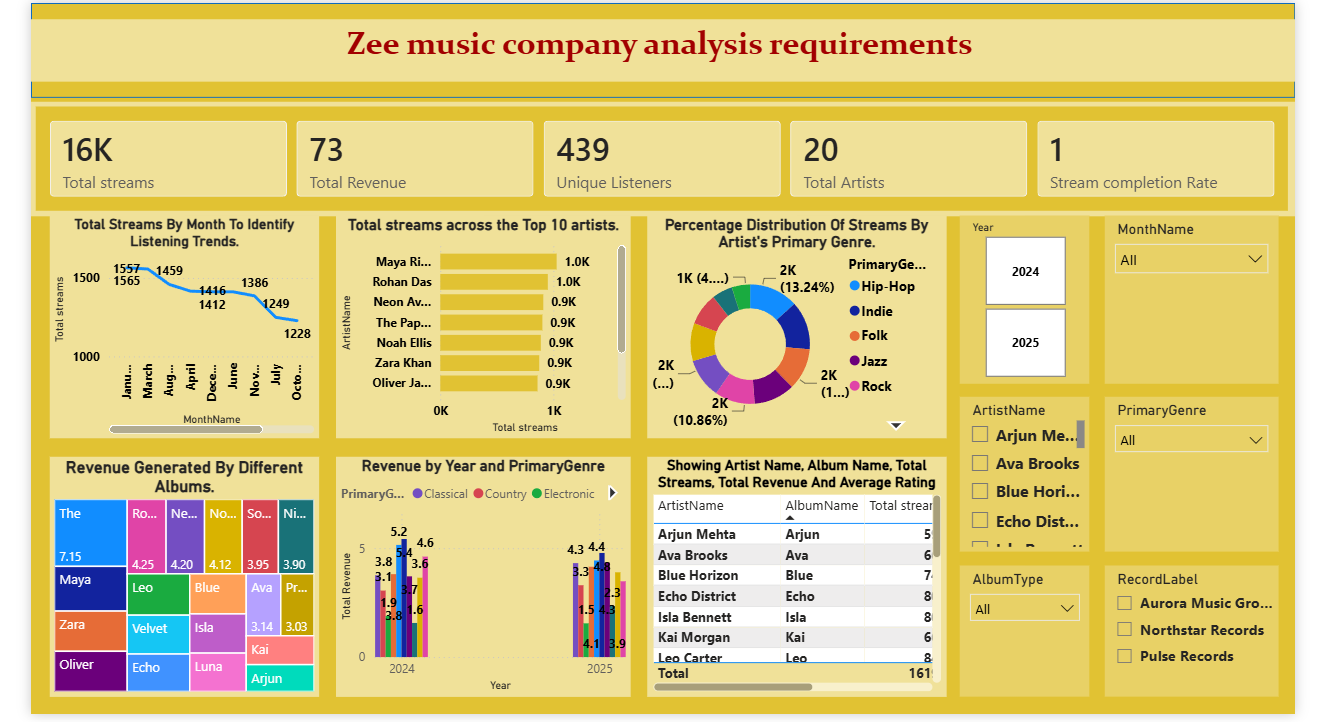

What the dashboard file says about the page in this screenshot:
{"tool":"powerbi","page":{"name":"Dashboard Page 1 — Music Performance Overview.","canvas":[1280,720],"ordinal":0},"visuals":[{"type":"shape","box":[0,0,1280.3,96.1],"z":0},{"type":"textbox","box":[0,16.5,1280.3,63.1],"z":1000},{"type":"cardVisual","fields":{"Data":["Music_Streams.Total streams","Music_Streams.Total Revenue","Music_Streams.Unique Listeners","Music_Streams.Total Artists","Music_Streams.Stream completion Rate"]},"box":[0,100,1280,115.7],"z":2000},{"type":"lineChart","title":"Total Streams By Month To Identify Listening Trends.","fields":{"Category":["Date.MonthName"],"Y":["Music_Streams.Total streams"]},"box":[18.6,215.7,272.9,225.7],"z":3000},{"type":"clusteredBarChart","title":"Total streams  across the Top 10 artists.","fields":{"Y":["Music_Streams.Total streams"],"Category":["Artist.ArtistName"]},"box":[308.6,215.7,298.6,225.7],"z":4000},{"type":"donutChart","title":"Percentage Distribution Of Streams By Artist''s Primary Genre.","fields":{"Y":["Music_Streams.Total streams"],"Category":["Artist.PrimaryGenre"]},"box":[624.3,215.7,302.9,225.7],"z":5000},{"type":"treemap","title":"Revenue Generated By Different Albums.","fields":{"Values":["Music_Streams.Total Revenue"],"Group":["Album.AlbumName"]},"box":[18.6,460,272.9,242.9],"z":6000},{"type":"clusteredColumnChart","title":" Revenue by Year and PrimaryGenre","fields":{"Y":["Music_Streams.Total Revenue"],"Category":["Date.Year"],"Series":["Artist.PrimaryGenre"]},"box":[308.6,460,298.6,242.9],"z":7000},{"type":"tableEx","title":"Showing  Artist Name, Album Name, Total Streams, Total Revenue And Average Rating","fields":{"Values":["Artist.ArtistName","Album.AlbumName","Music_Streams.Total streams","Music_Streams.Total Revenue","Music_Streams.Average Rating"]},"box":[624.3,460,302.9,242.9],"z":8000},{"type":"slicer","fields":{"Values":["Date.Year"]},"box":[940,215.7,131.4,170],"z":9000},{"type":"slicer","fields":{"Values":["Date.MonthName"]},"box":[1087.1,215.7,175.7,170],"z":10000},{"type":"slicer","fields":{"Values":["Artist.ArtistName"]},"box":[940,398.6,131.4,157.1],"z":11000},{"type":"slicer","fields":{"Values":["Artist.PrimaryGenre"]},"box":[1087.1,398.6,175.7,157.1],"z":12000},{"type":"slicer","fields":{"Values":["Album.RecordLabel"]},"box":[1087.1,570,175.7,132.9],"z":13000},{"type":"slicer","fields":{"Values":["Album.AlbumType"]},"box":[940,570,131.4,132.9],"z":14000}]}

Visuals, with their boxes in screenshot pixels (x1, y1, x2, y2), scaled from the page's 1280x720 canvas onto the 1317x722 screenshot:
shape: <region>0, 0, 1316, 96</region>
textbox: <region>0, 17, 1316, 80</region>
cardVisual - Music_Streams.Total streams x Music_Streams.Total Revenue: <region>0, 100, 1316, 216</region>
"Total Streams By Month To Identify Listening Trends." lineChart: <region>19, 216, 300, 443</region>
"Total streams  across the Top 10 artists." clusteredBarChart: <region>318, 216, 625, 443</region>
"Percentage Distribution Of Streams By Artist''s Primary Genre." donutChart: <region>642, 216, 954, 443</region>
"Revenue Generated By Different Albums." treemap: <region>19, 461, 300, 705</region>
" Revenue by Year and PrimaryGenre" clusteredColumnChart: <region>318, 461, 625, 705</region>
"Showing  Artist Name, Album Name, Total Streams, Total Revenue And Average Rating" tableEx: <region>642, 461, 954, 705</region>
slicer - Date.Year: <region>967, 216, 1102, 387</region>
slicer - Date.MonthName: <region>1119, 216, 1299, 387</region>
slicer - Artist.ArtistName: <region>967, 400, 1102, 557</region>
slicer - Artist.PrimaryGenre: <region>1119, 400, 1299, 557</region>
slicer - Album.RecordLabel: <region>1119, 572, 1299, 705</region>
slicer - Album.AlbumType: <region>967, 572, 1102, 705</region>
